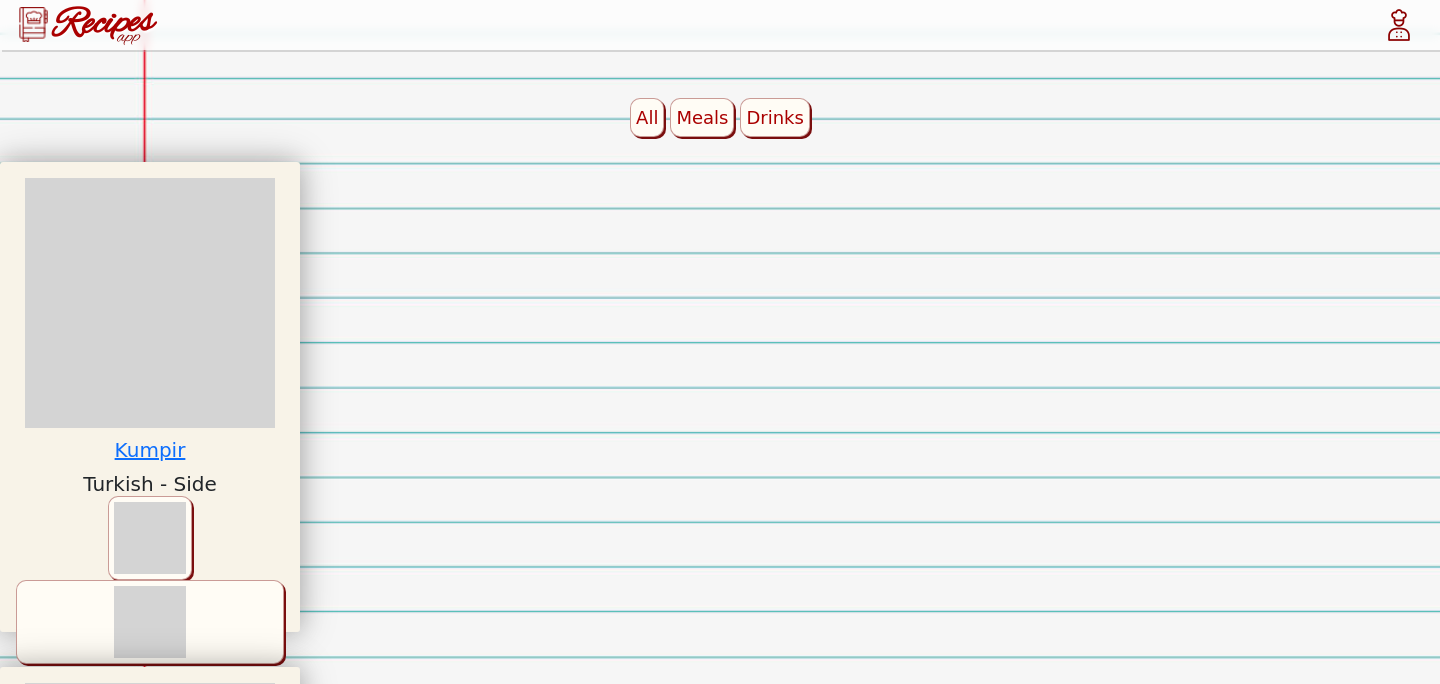
Test: Verifica se a página Favorite Recipes renderiza as informações corretas › Verifica se o botão "Drinks" é renderizado na tela, e se ao clicar as receitas são filtradas corretamente
Click the button with test id "filter-by-drink-btn": (775, 118) [740,98,810,137]
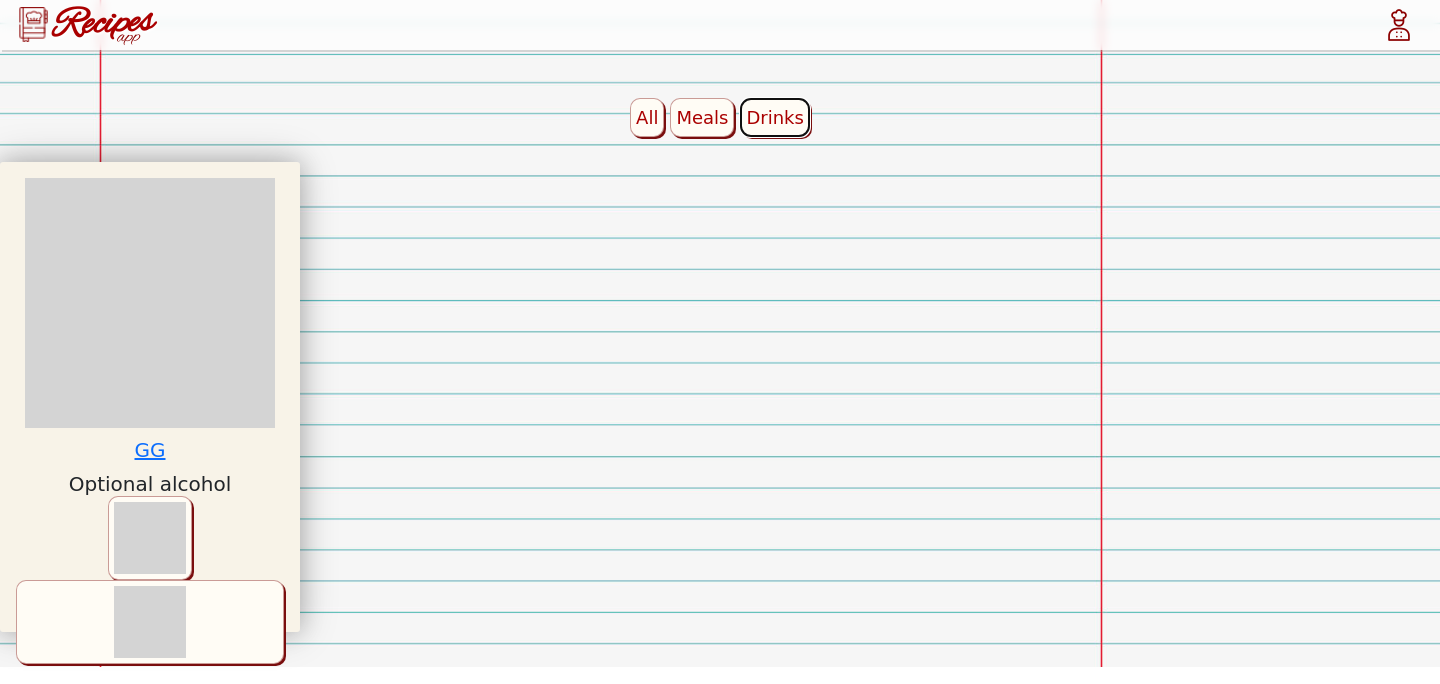
Expected: the heading with test id "0-horizontal-name" reads "GG", [134,438,166,462]
